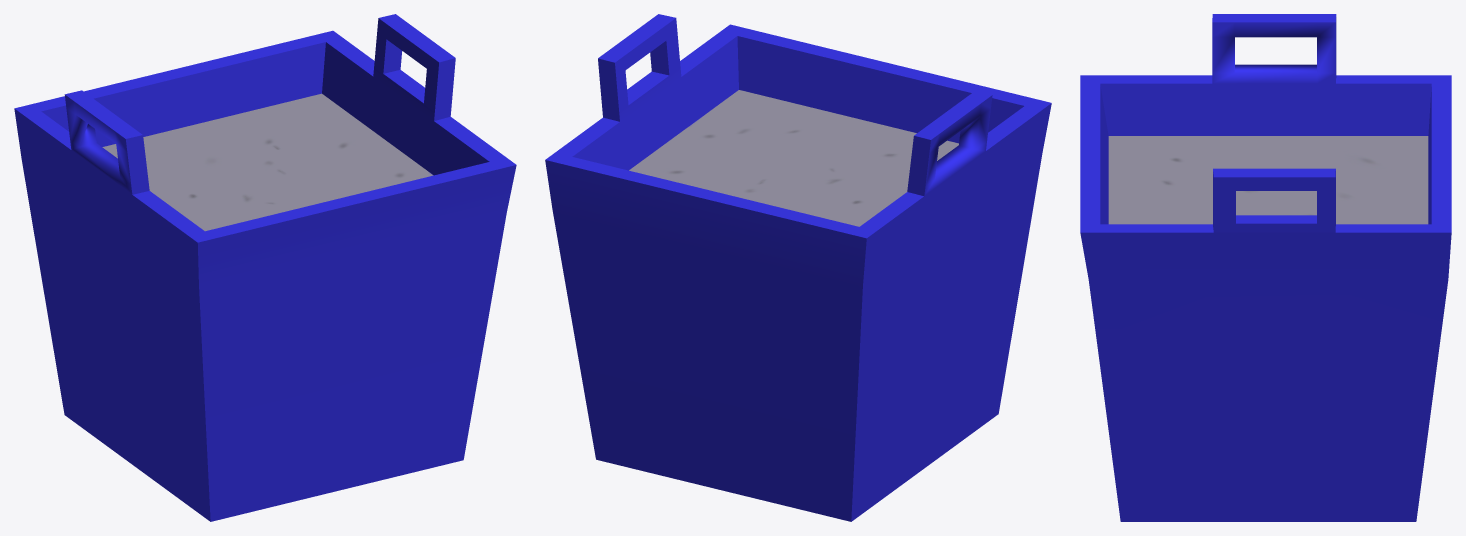
The model's file is poon.fbx.
3 renders of one model, left to right at view 1: azimuth 30°, elevation 25°; view 2: azimuth 150°, elevation 25°; view 3: azimuth 270°, elevation 25°, orthographic.
Visible parts, largest first — view 1: pCube1; view 2: pCube1; view 3: pCube1.
Part boxes in pixels (x1=…): pCube1: x1=14, y1=14, x2=516, y2=521; pCube1: x1=545, y1=14, x2=1051, y2=521; pCube1: x1=1080, y1=14, x2=1451, y2=521.
Bounding box in the file's own units: 2.26 × 2.35 × 2.17.
Materials: 1 (1 with a texture image).
